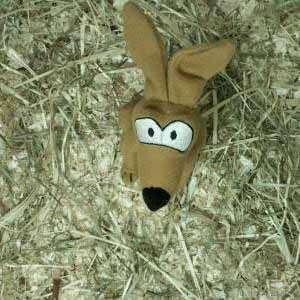dog: (119, 1, 237, 211)
